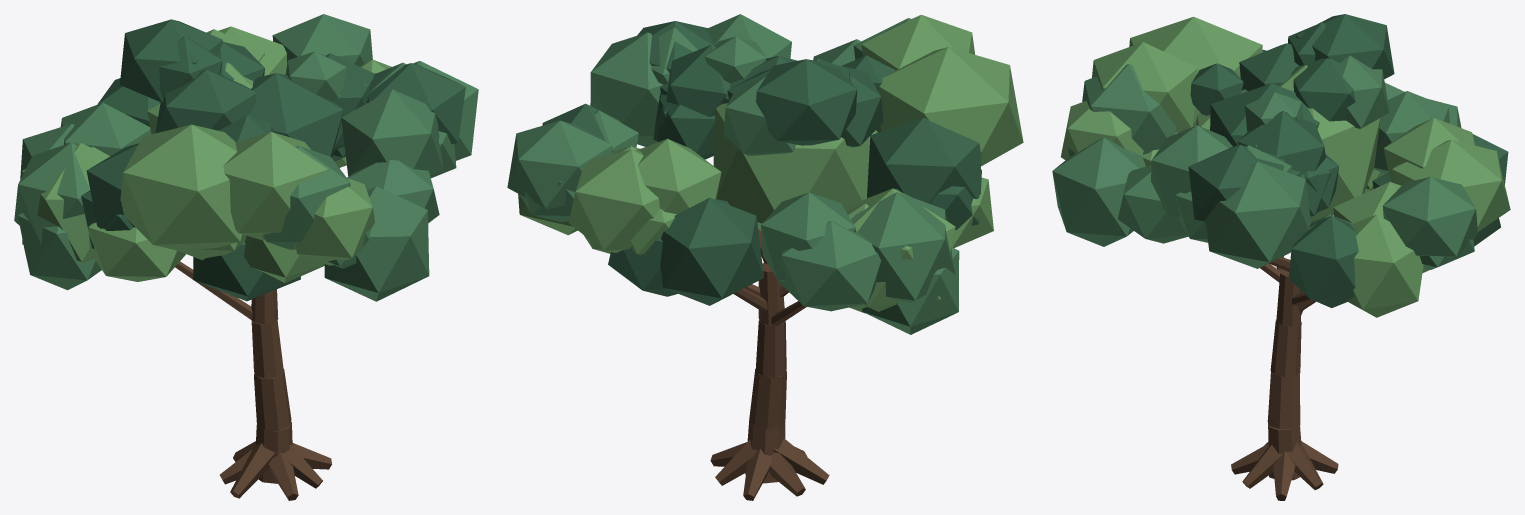
Rendered from arbre_chene.glb.
The picture shows the model from 3 angles, left to right: view 1: azimuth 30°, elevation 25°; view 2: azimuth 150°, elevation 25°; view 3: azimuth 270°, elevation 25°; orthographic projection. The views are drawn at different scales.
Visible parts, largest first — view 1: arbre_chene; view 2: arbre_chene; view 3: arbre_chene.
Part boxes in pixels (<box>): arbre_chene: <box>14,14,478,500</box>; arbre_chene: <box>507,14,1023,500</box>; arbre_chene: <box>1052,14,1510,500</box>.
Size of the model in its own units: 10.65 by 11.28 by 10.89.
